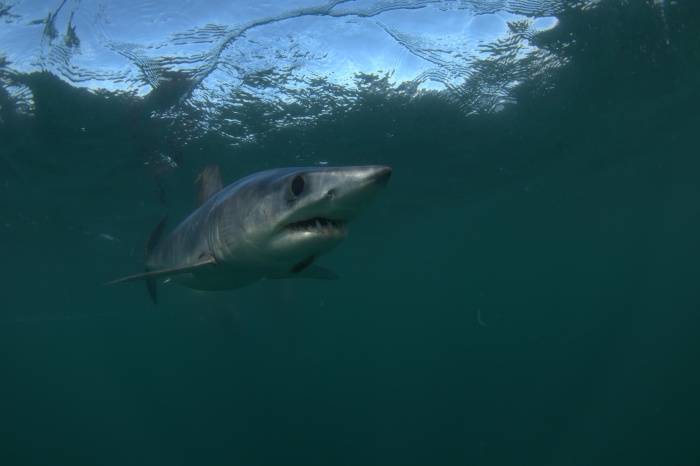Mako: (84, 150, 424, 319)
